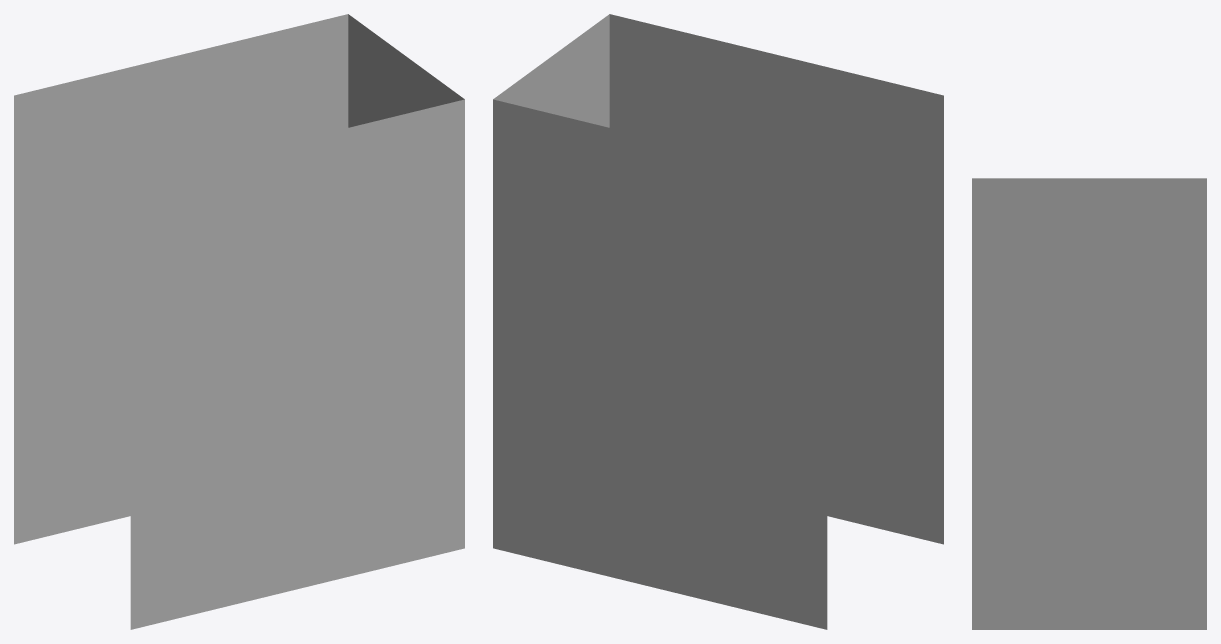
Rendered from Itr_Bartable_Body_Right_06.FBX.
The picture shows the model from 3 angles, left to right: view 1: azimuth 30°, elevation 25°; view 2: azimuth 150°, elevation 25°; view 3: azimuth 270°, elevation 25°; orthographic projection.
Parts seen in each view (by area): view 1: Itr_Bartable_Body_Right_06; view 2: Itr_Bartable_Body_Right_06; view 3: Itr_Bartable_Body_Right_06.
Part boxes in pixels (bbox=[...]): Itr_Bartable_Body_Right_06: bbox=[14, 14, 464, 629]; Itr_Bartable_Body_Right_06: bbox=[493, 14, 943, 629]; Itr_Bartable_Body_Right_06: bbox=[972, 178, 1206, 629].
Bounding box in the file's own units: 20.04 × 25.72 × 12.11.
